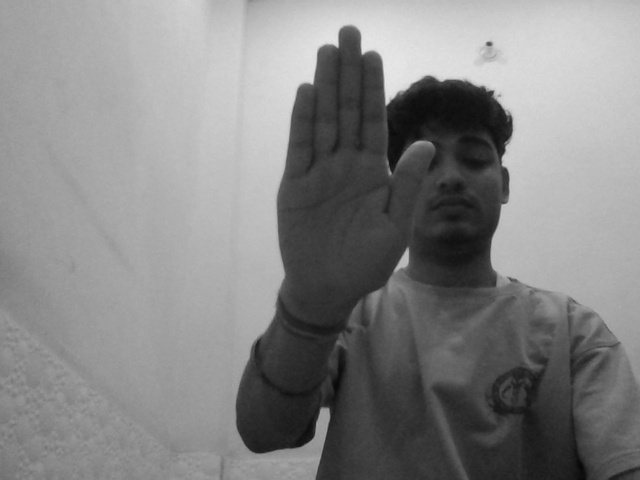Sorry: (274, 23, 439, 319)
